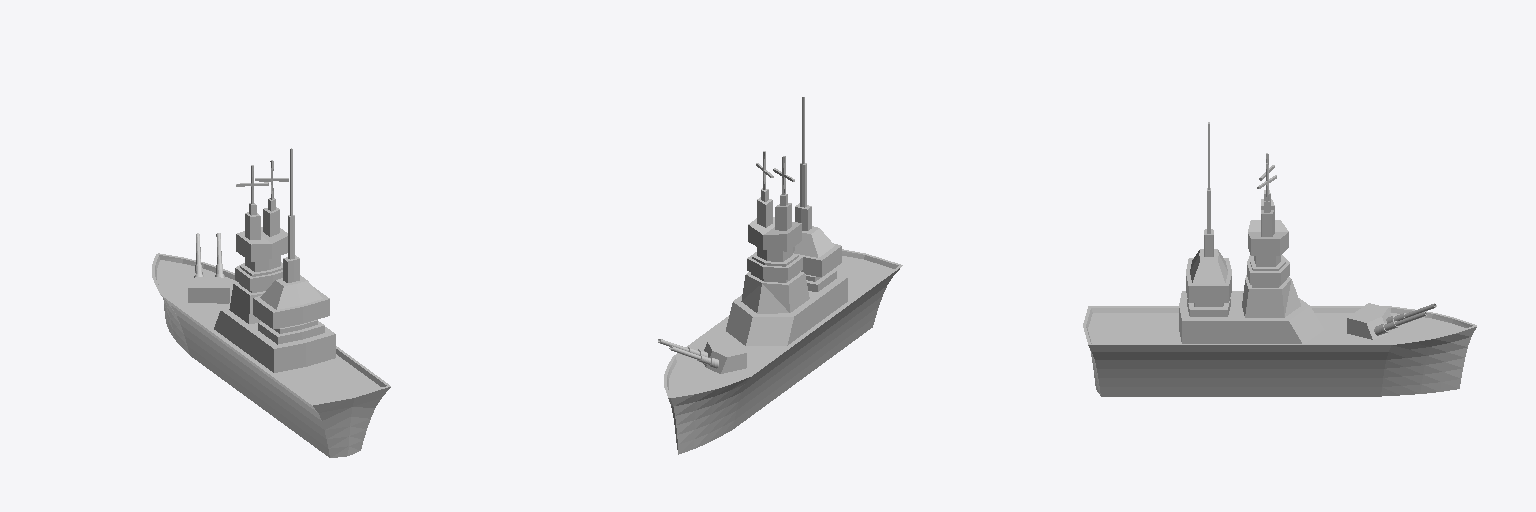
The model's file is Croiseur.obj.
The picture shows the model from 3 angles: view 1: azimuth 30°, elevation 25°; view 2: azimuth 150°, elevation 25°; view 3: azimuth 270°, elevation 25°; orthographic projection.
Parts seen in each view (by area): view 1: Cube; view 2: Cube; view 3: Cube.
Boxes of the visible parts, box(x1,y1,x2,y2) form: Cube: box(152, 148, 390, 457); Cube: box(658, 97, 902, 454); Cube: box(1083, 122, 1476, 396).
Size of the model in its own units: 47.94 by 153 by 206.